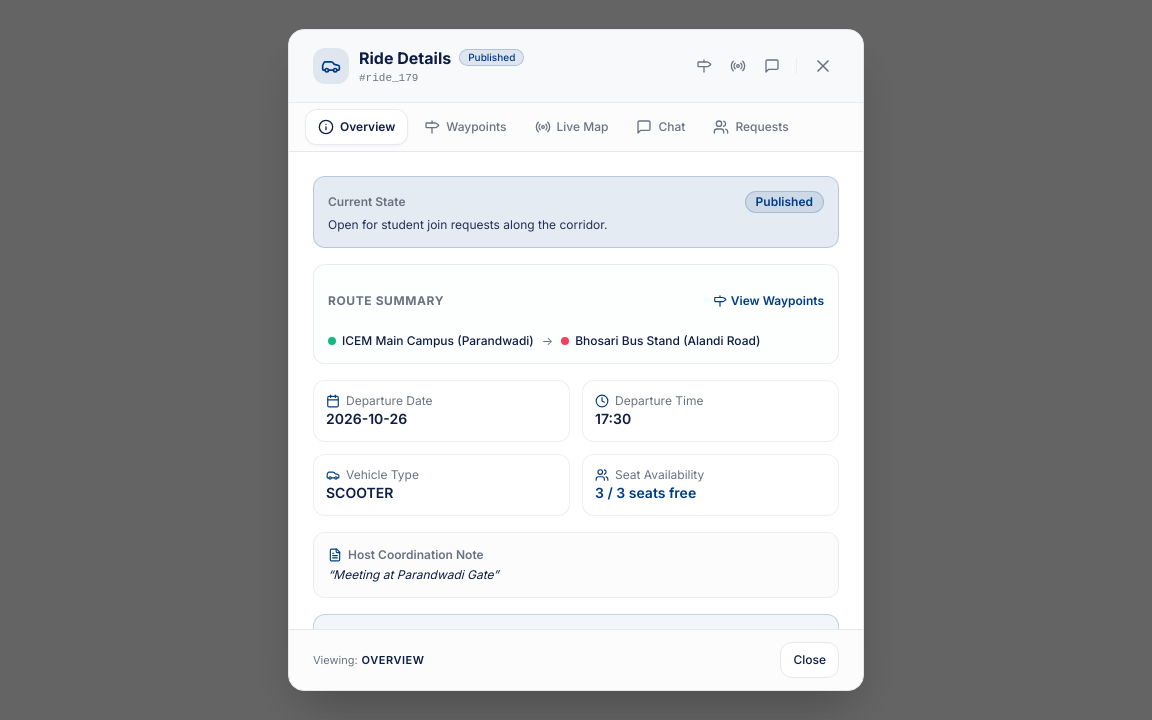
it: RideDetailModal Navigation & Ergonomics › switches to Waypoints tab without vertical scrolling when clicking tab or header icon
Note: Click Waypoints tab button
Step 1. Click the button "Waypoints" → (465, 127), box 412,109 -> 519,145
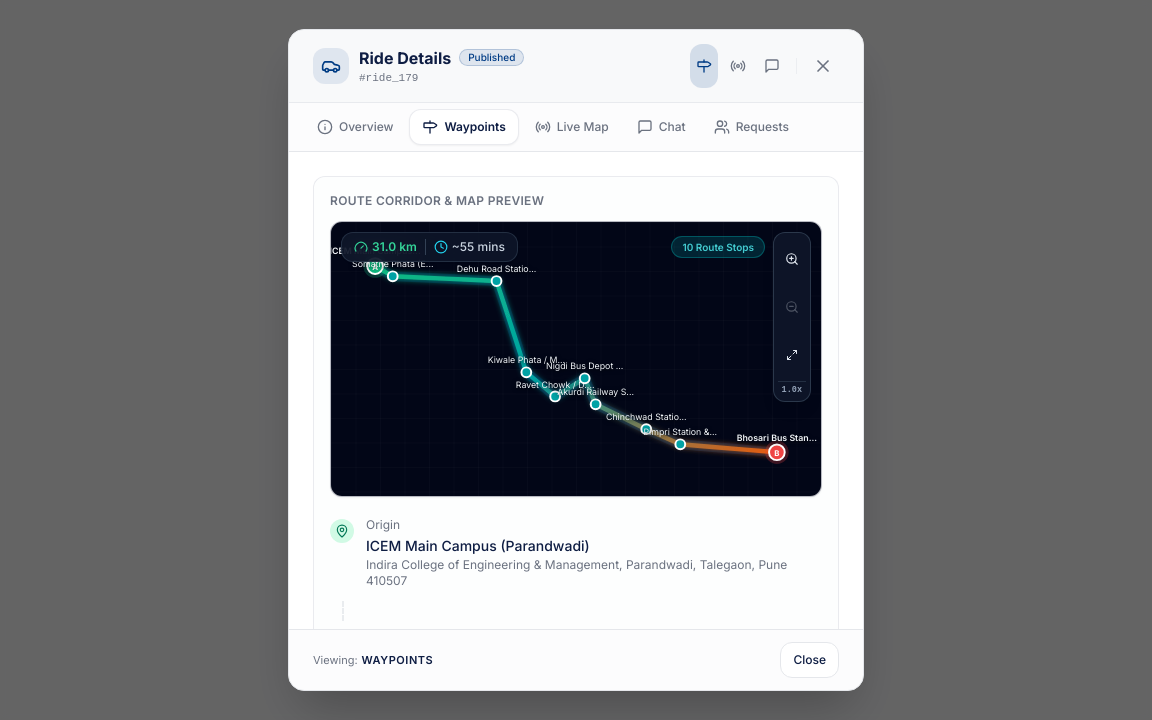
Expected: the text "ICEM" is shown, 331,245 -> 421,256
Expected: the text "Route Corridor & Map Preview" is shown, 330,193 -> 544,208
